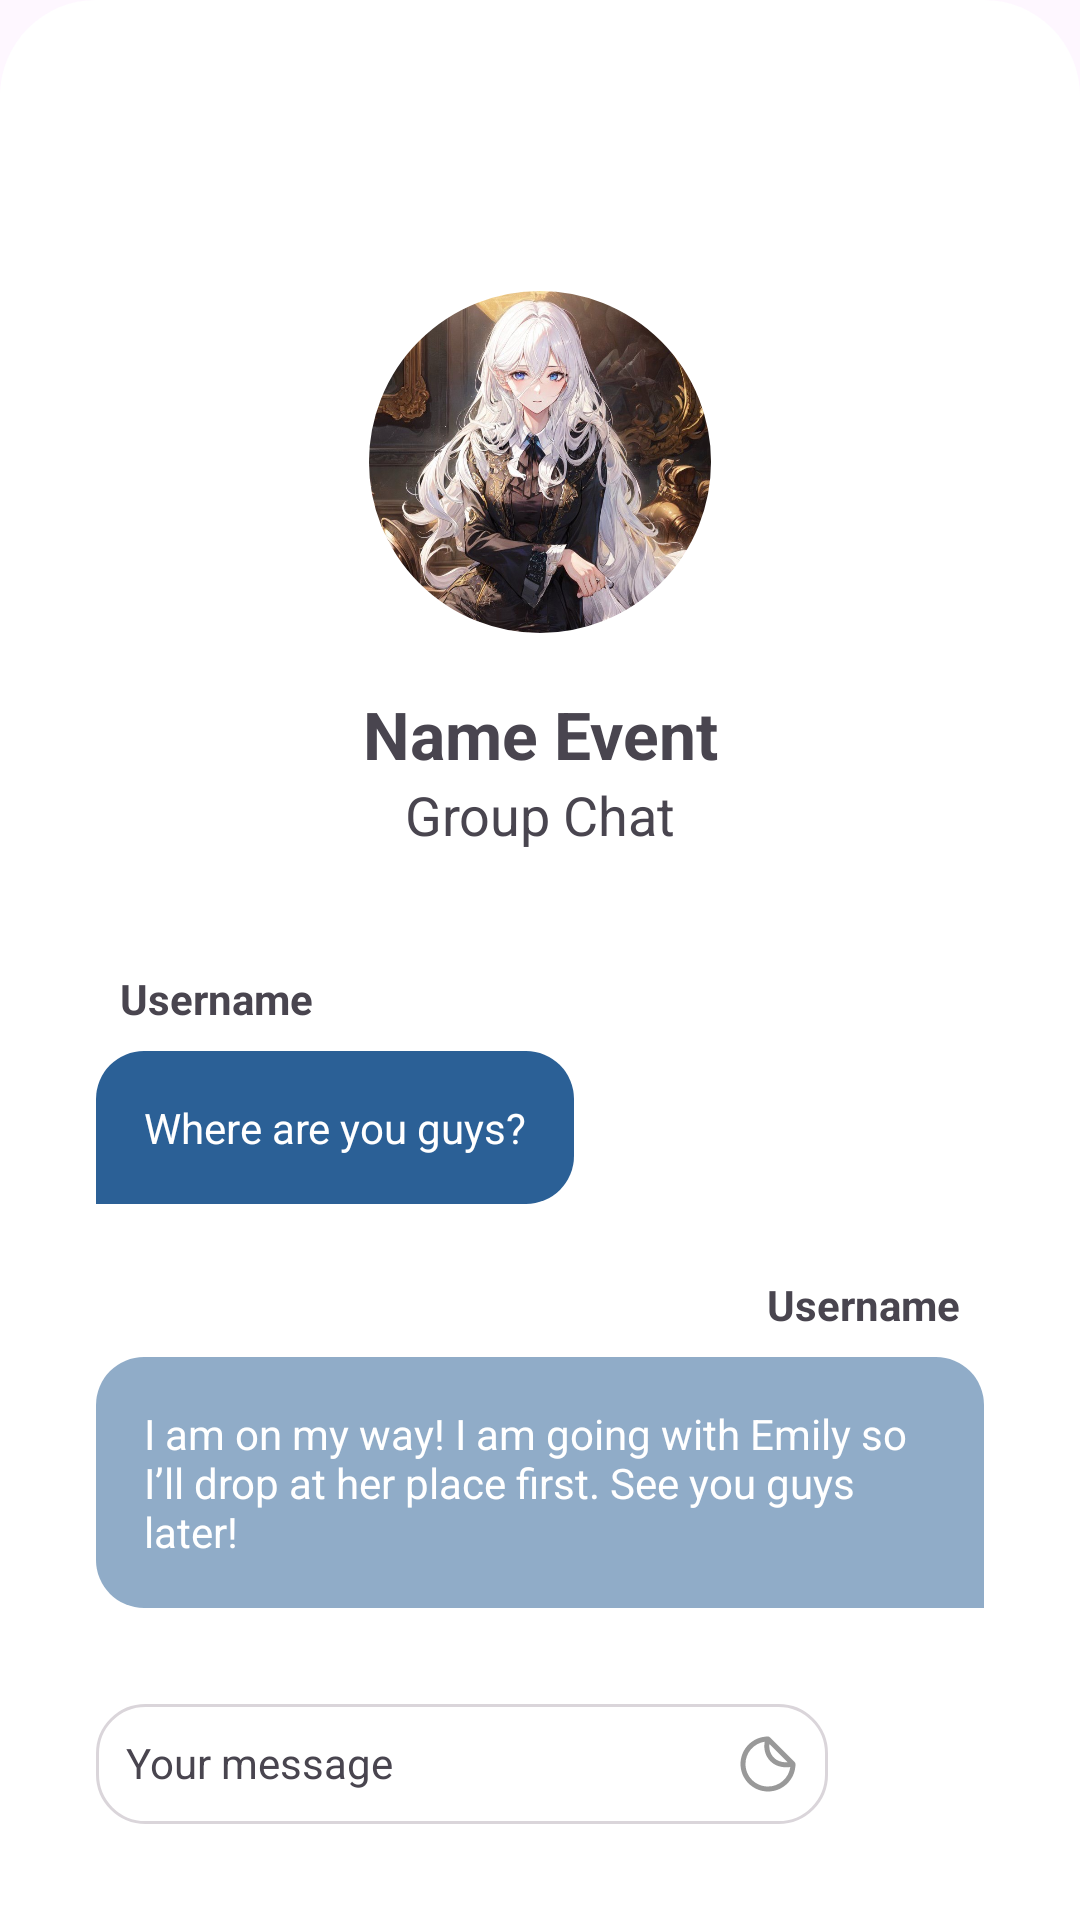

Named icons in this screenshot (1080w x 1920h) and their centers, [x,y]:
animepic: [540,462]
stickers: [768,1764]
